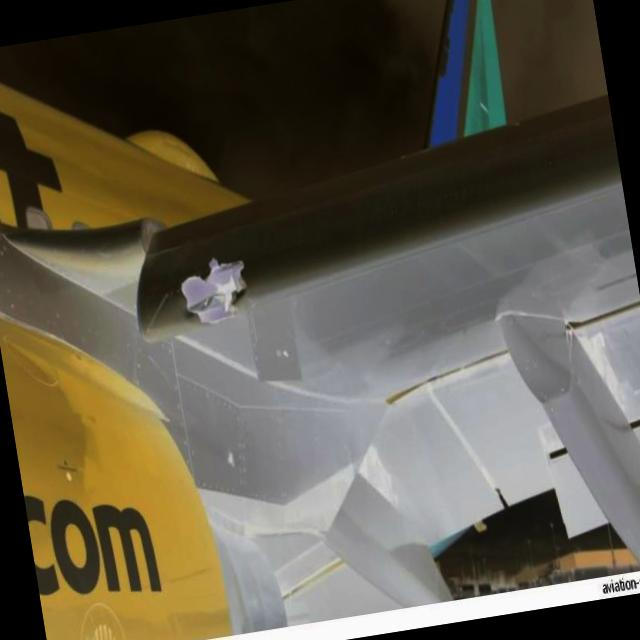crack: (172, 250, 254, 338)
